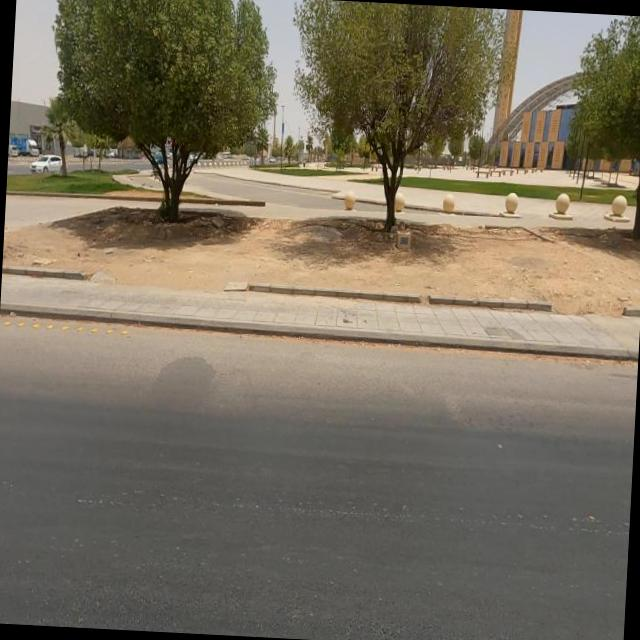debris: (367, 195, 442, 282)
